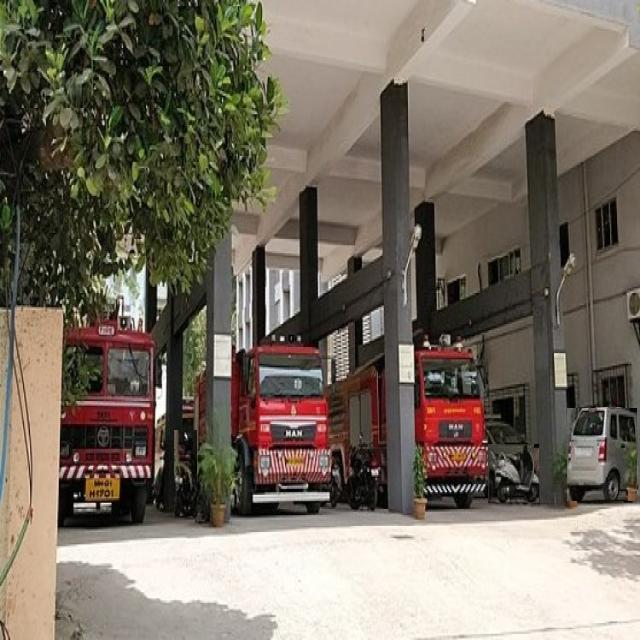car: (568, 409, 637, 501), (485, 411, 534, 471)
emergency: (59, 314, 158, 525), (231, 337, 329, 515), (415, 346, 489, 508)
motorcycle: (489, 445, 539, 503), (346, 436, 379, 511), (175, 431, 197, 516)
